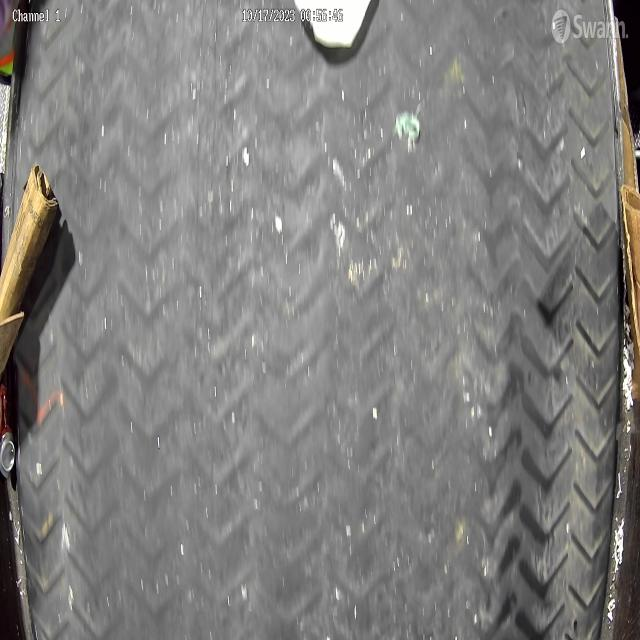can: (0, 384, 15, 478)
